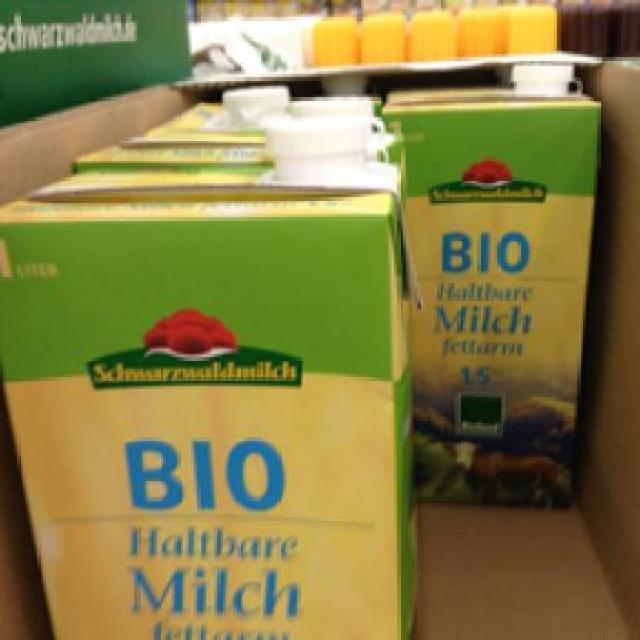Milk: (3, 125, 426, 638), (386, 66, 600, 512)
